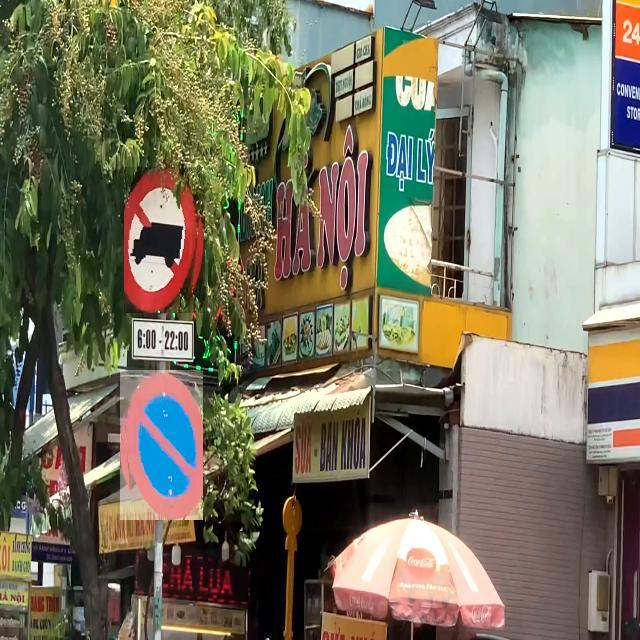P-106a: (124, 167, 205, 313)
P-131a: (120, 371, 203, 521)
